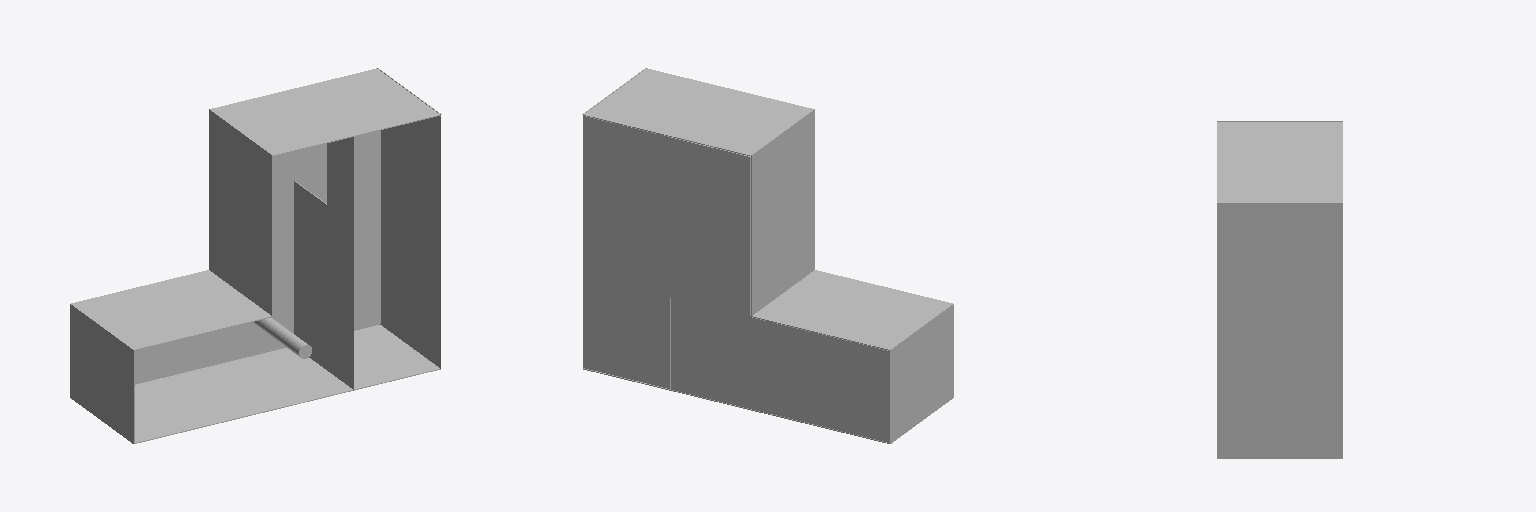
The model's file is corridor_pilar.obj.
3 renders of one model, left to right at view 1: azimuth 30°, elevation 25°; view 2: azimuth 150°, elevation 25°; view 3: azimuth 270°, elevation 25°, orthographic.
Parts seen in each view (by area): view 1: Wall3_Cube.004, Wall2.003_Cube.017, Wall3.002_Cube.016, Wall2.001_Cube.007, Wall2.002_Cube.015, Wall3.001_Cube.014, Floor.002_Cube.019, Floor_Cube.001, Wall2_Cube.003, Floor.001_Cube.018, Wall2.004_Cube.020, Cylinder; view 2: Floor.002_Cube.019, Floor_Cube.001, Floor.001_Cube.018, Wall3.002_Cube.016, Wall2.001_Cube.007, Wall3.001_Cube.014, Wall2_Cube.003; view 3: Wall2.003_Cube.017, Wall3.002_Cube.016.
Boxes of the visible parts, <box> form: Wall3_Cube.004: <box>70,325,440,443</box>; Wall2.003_Cube.017: <box>377,68,440,368</box>; Wall3.002_Cube.016: <box>211,68,441,155</box>; Wall2.001_Cube.007: <box>209,109,272,315</box>; Wall2.002_Cube.015: <box>294,181,353,389</box>; Wall3.001_Cube.014: <box>70,270,273,350</box>; Floor.002_Cube.019: <box>294,130,380,330</box>; Floor_Cube.001: <box>135,254,293,384</box>; Wall2_Cube.003: <box>70,305,134,443</box>; Floor.001_Cube.018: <box>273,152,293,258</box>; Wall2.004_Cube.020: <box>327,137,353,223</box>; Cylinder: <box>252,318,311,358</box>; Floor.002_Cube.019: <box>583,116,669,388</box>; Floor_Cube.001: <box>671,298,889,442</box>; Floor.001_Cube.018: <box>670,137,750,316</box>; Wall3.002_Cube.016: <box>582,68,812,155</box>; Wall2.001_Cube.007: <box>751,109,814,315</box>; Wall3.001_Cube.014: <box>750,270,953,350</box>; Wall2_Cube.003: <box>889,305,953,443</box>; Wall2.003_Cube.017: <box>1217,203,1342,457</box>; Wall3.002_Cube.016: <box>1217,122,1342,204</box>.
Bounding box in the file's own units: 7.01 × 5.55 × 2.5.